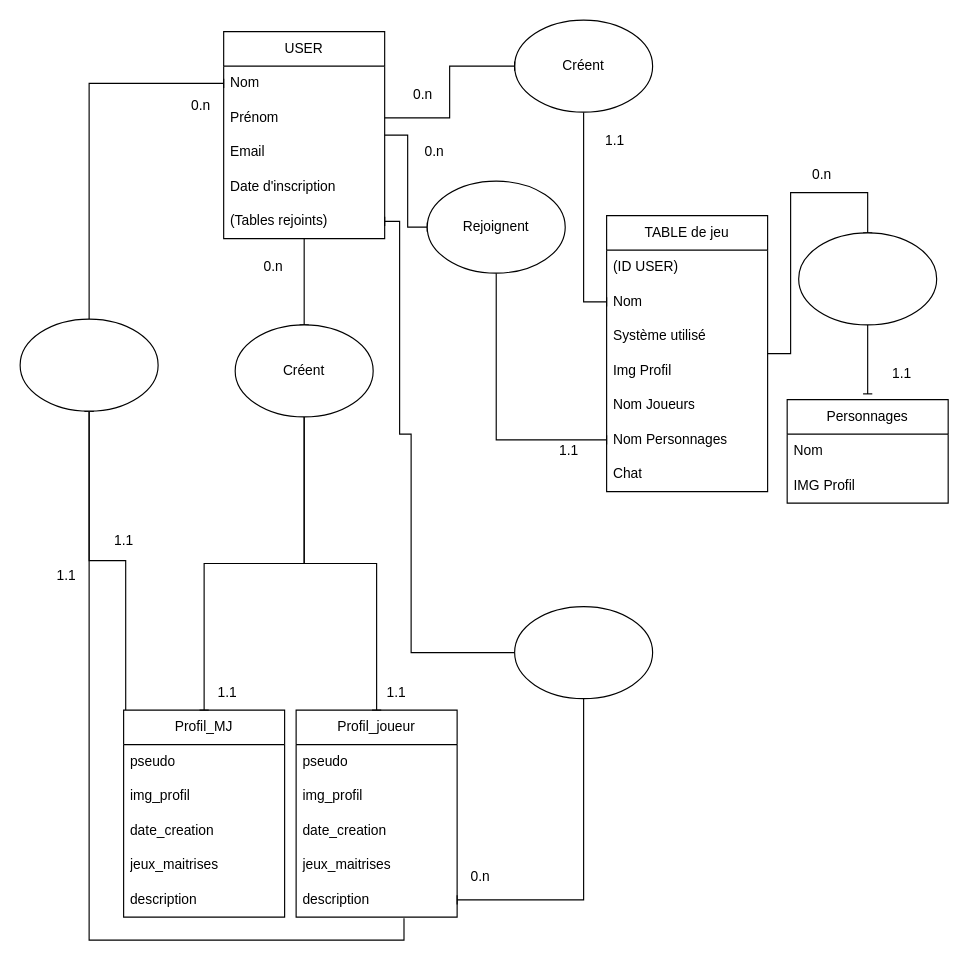
The diagram is 968 pixels wide and 969 high, and some of its shapes have lost their labels. The centre of each missing label's shape, as x and y in pixels:
"Contiennent" belongs at point (867, 278).
"Envoie message" belongs at point (88, 364).
"Recherchent" belongs at point (583, 652).
